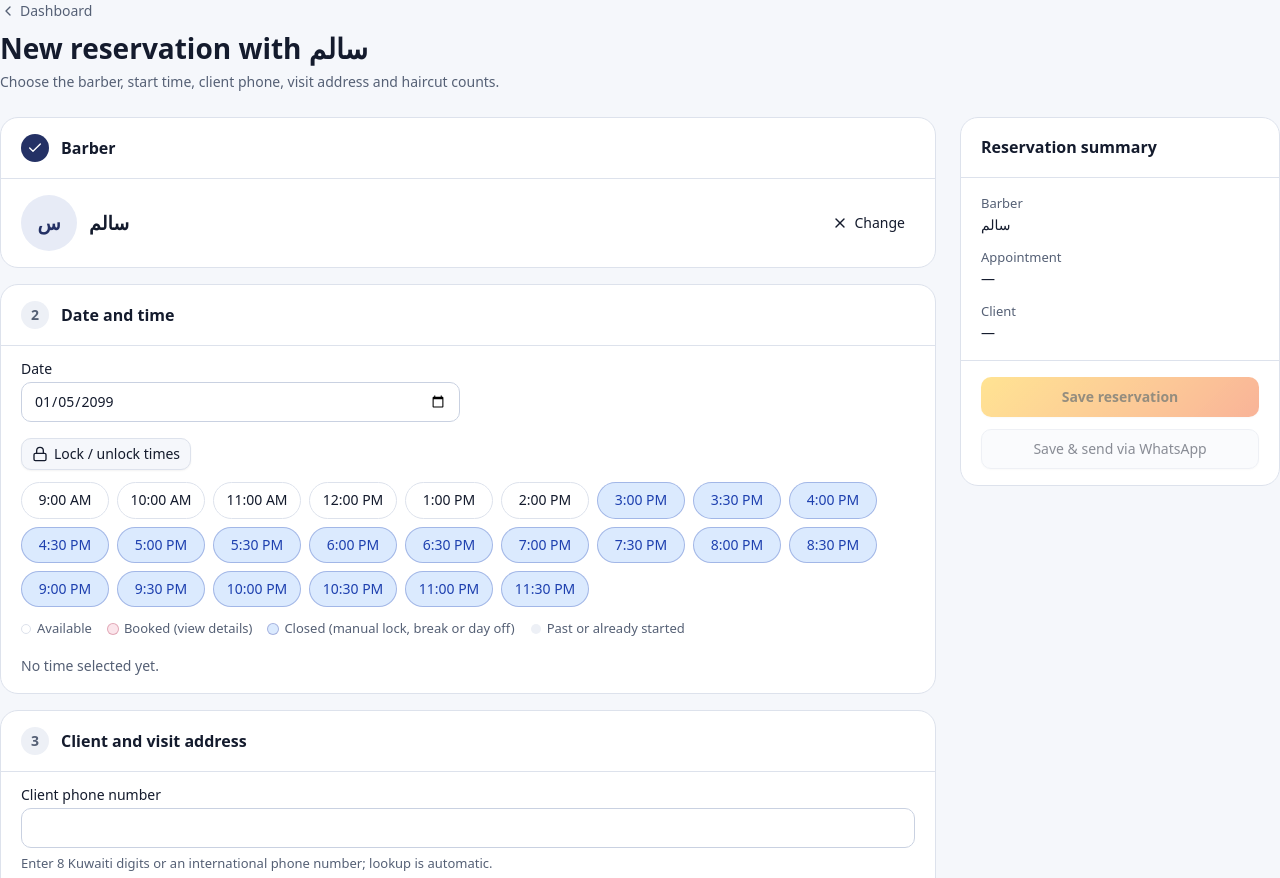
closes the WhatsApp tab and keeps the form when the reservation fails
Type "50000001" into the field labelled "Client phone number" at (468, 828), box [21,808,915,848]
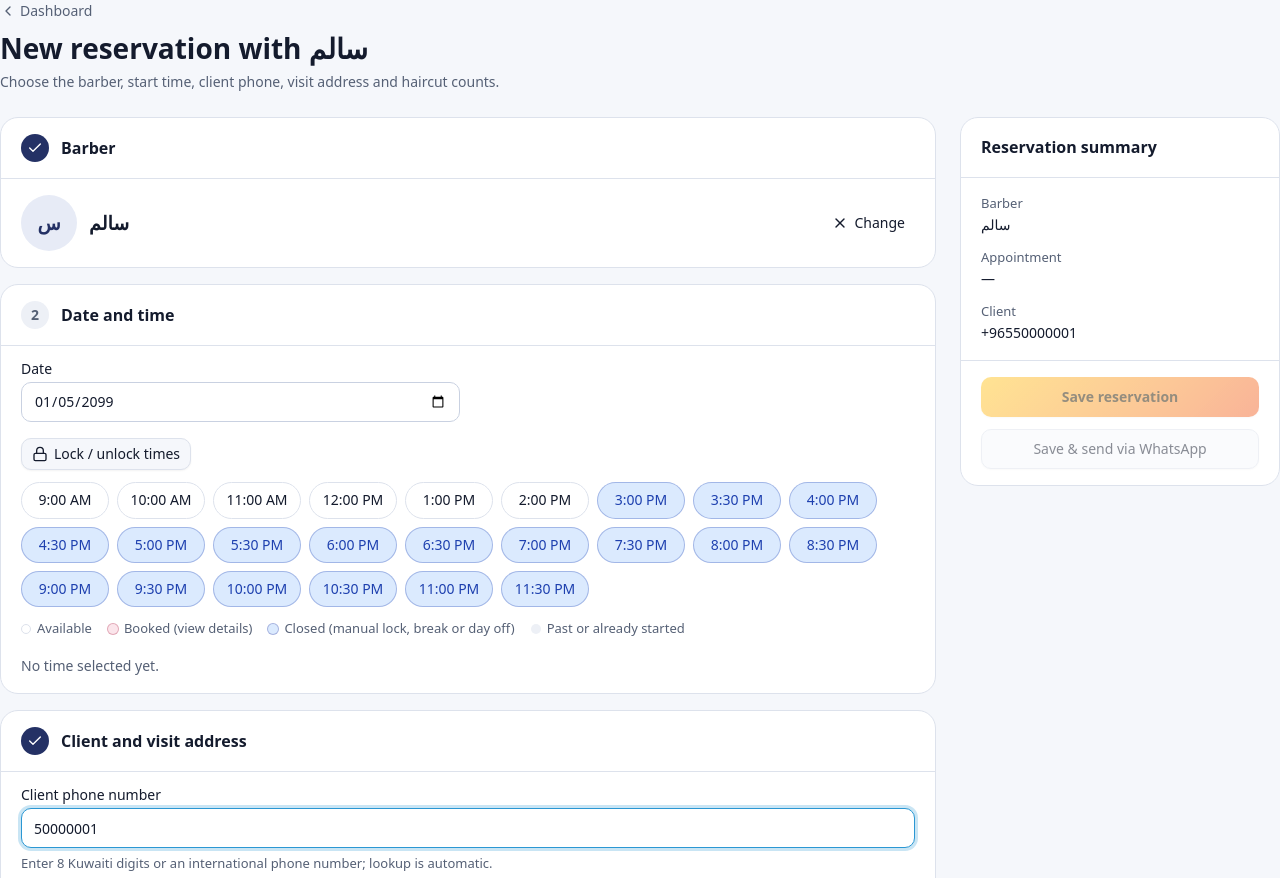
Click the radio button labelled "1:00 PM" at (449, 500), box [405,482,493,519]
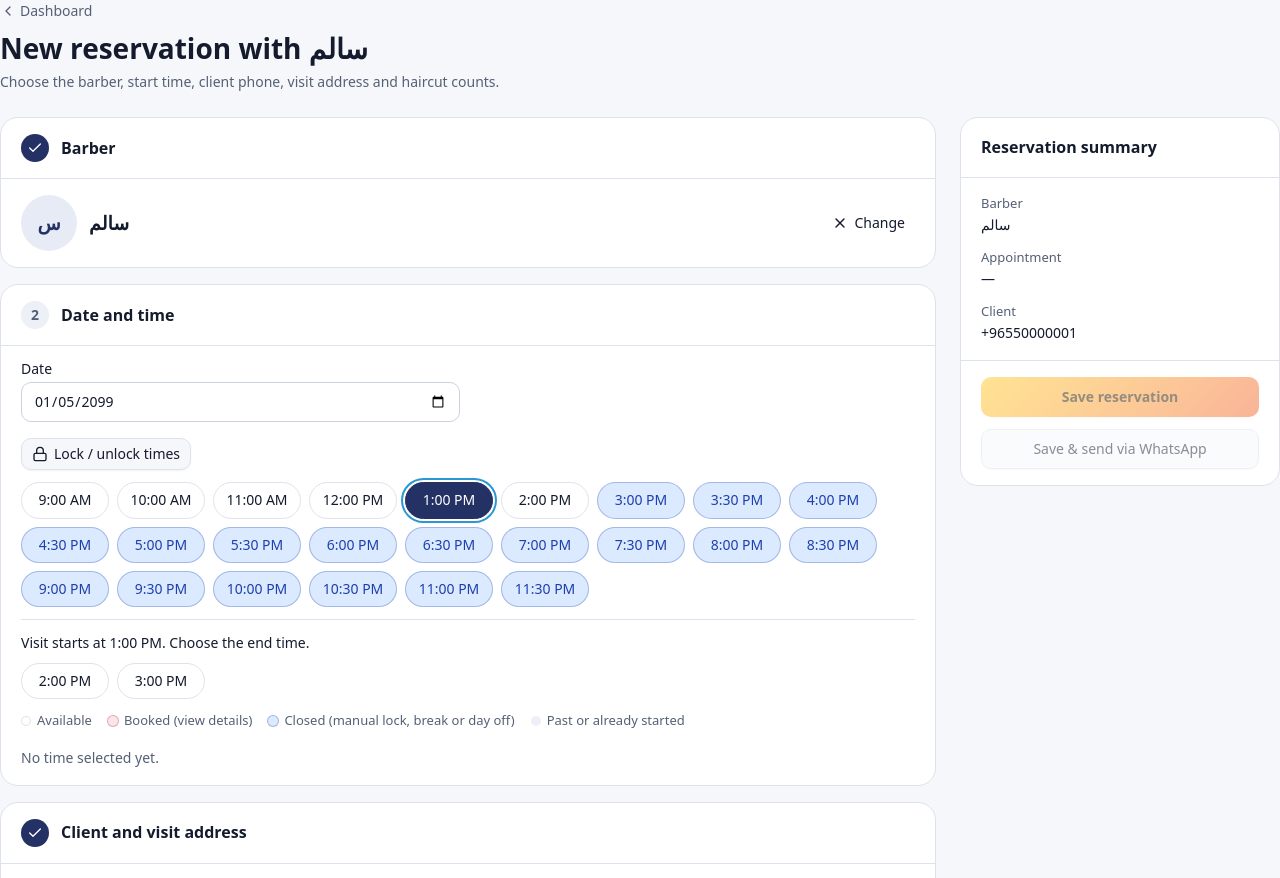
Click the radio button with aria-label "End at 2:00 PM" at (65, 681), box [21,663,109,699]
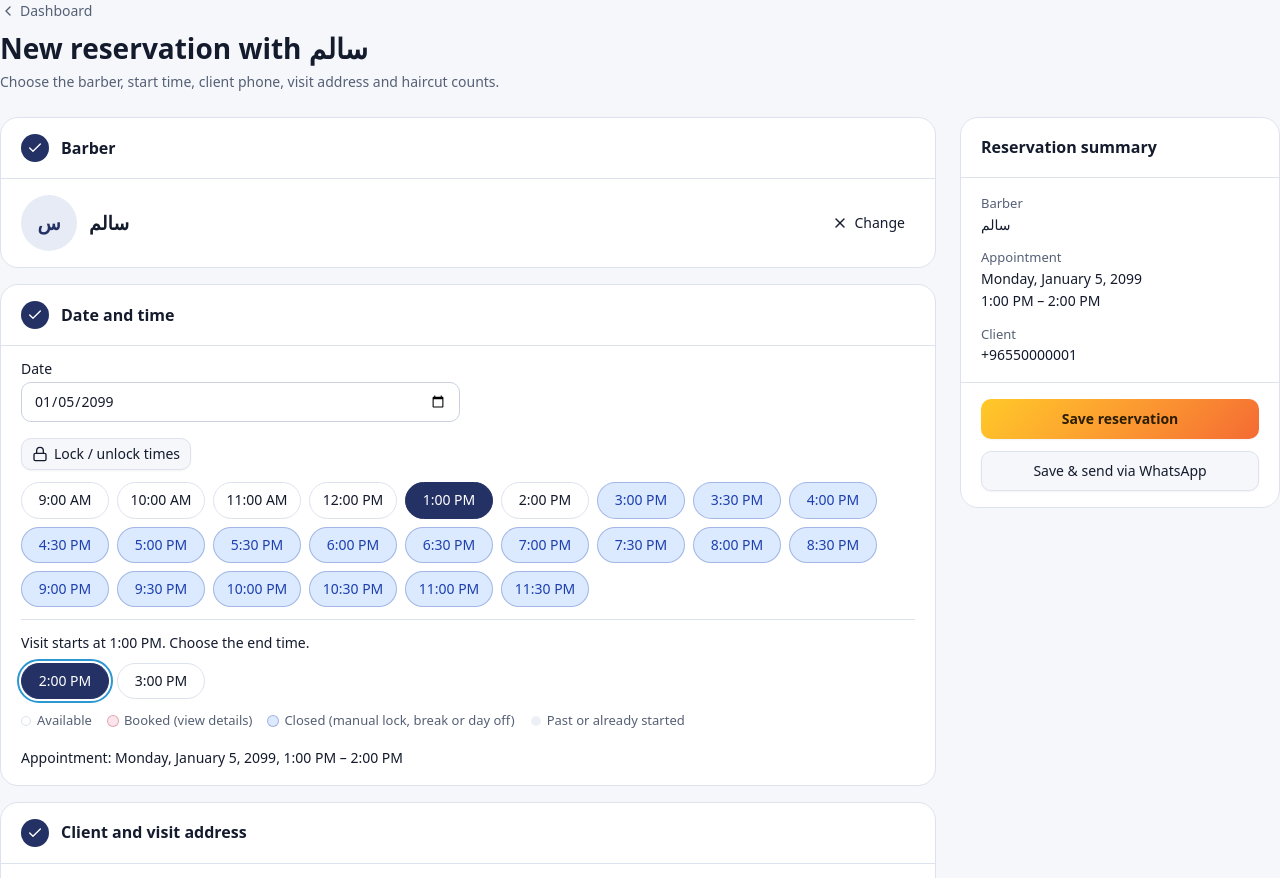
Now the button "Save & send via WhatsApp" is enabled
Click the button "Save & send via WhatsApp" at (1120, 471), box [981,451,1259,491]
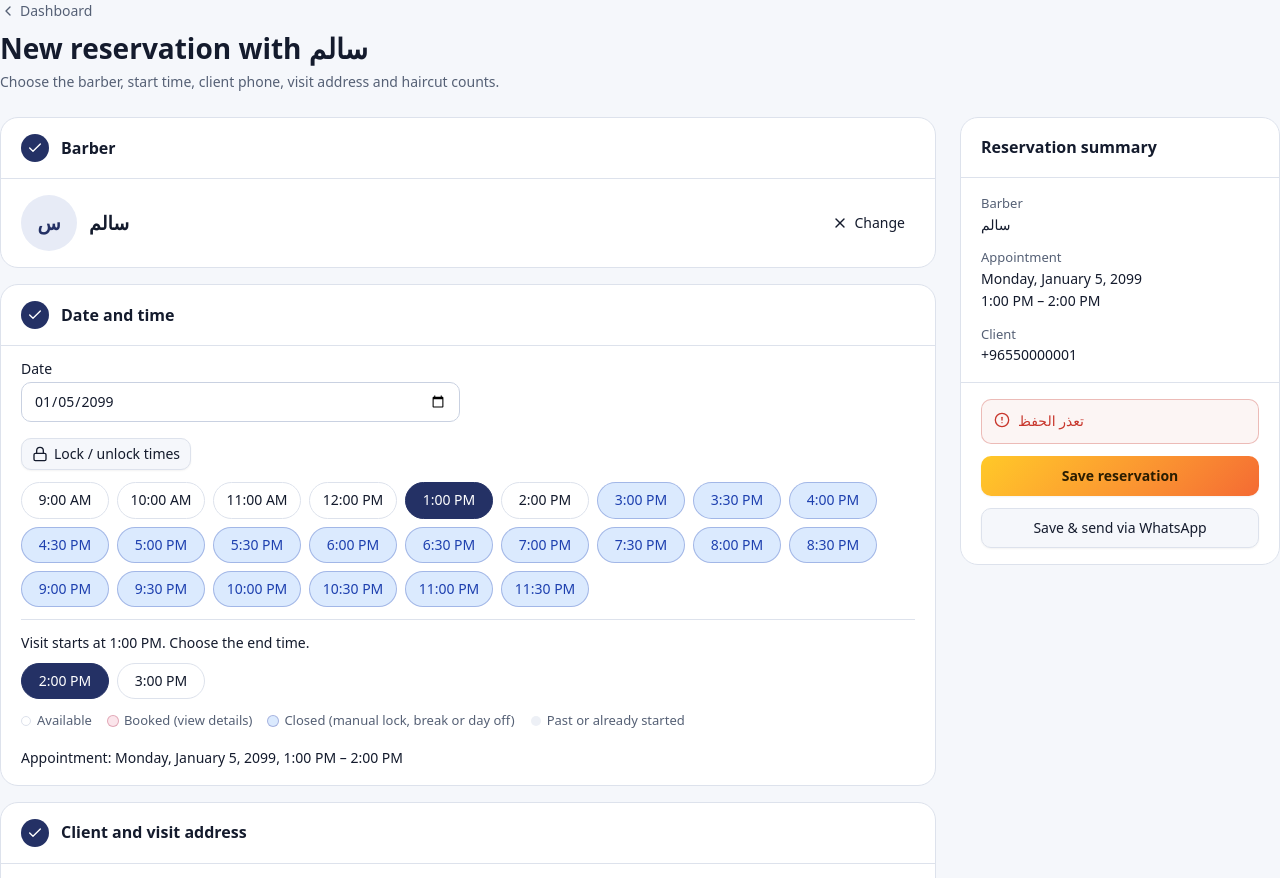
Now the message "تعذر الحفظ" is shown, box [981,399,1259,444]
